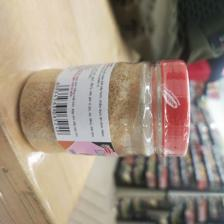Hao_hao: (19, 60, 192, 162)
